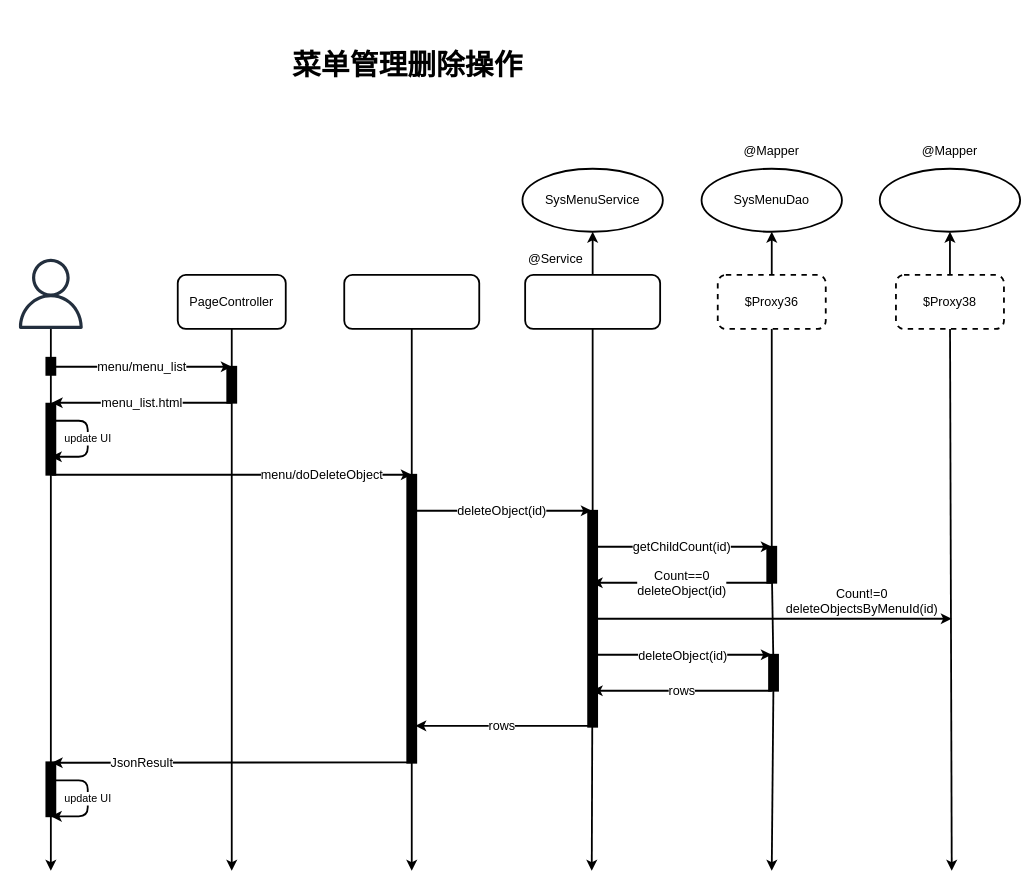
Some shapes in this 1036 by 894 pixel diagram are drawn without their labels. Here are the shapes that lost their labels. From the top down, the box of each, then its label:
(878, 167, 1021, 232): SysRoleMenuDao
(343, 274, 480, 329): SysMenuController
(524, 274, 661, 329): SysMenuServiceImpl
